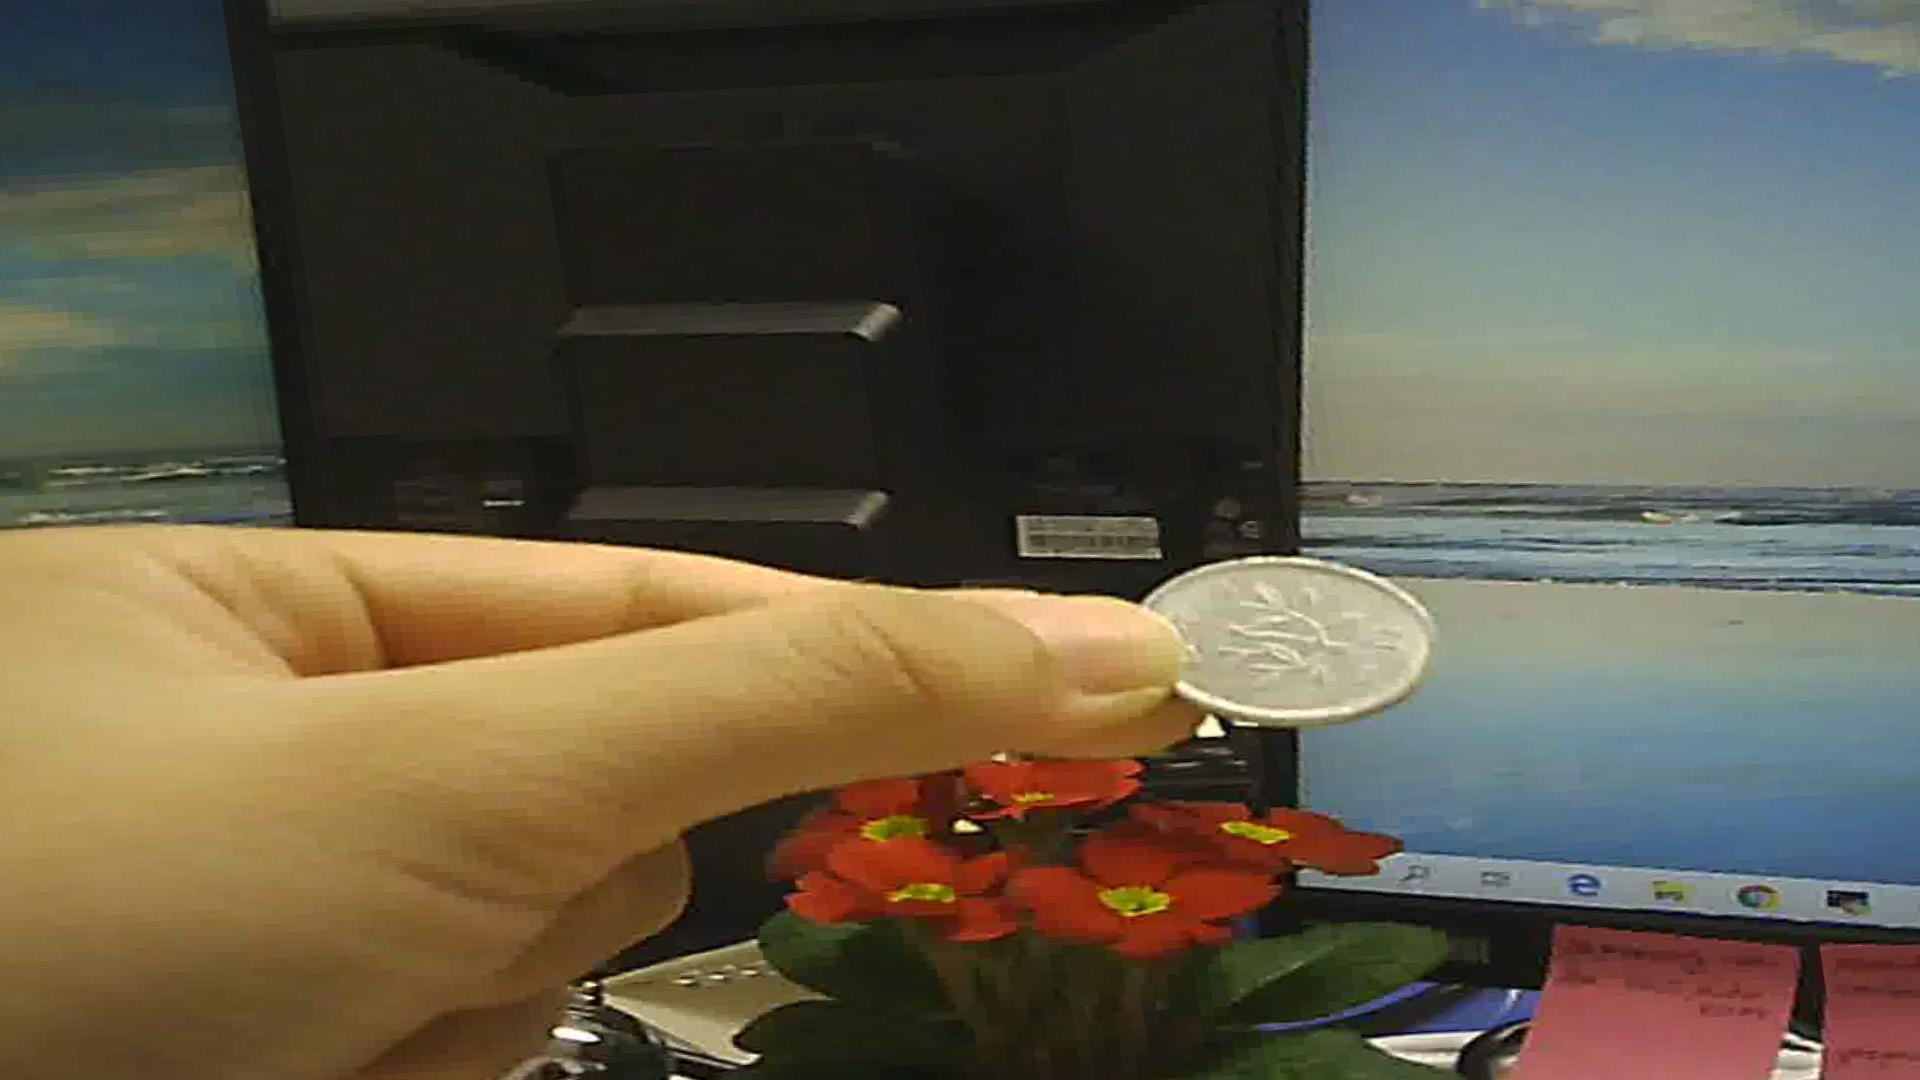1 Yen: (1129, 537, 1445, 740)
